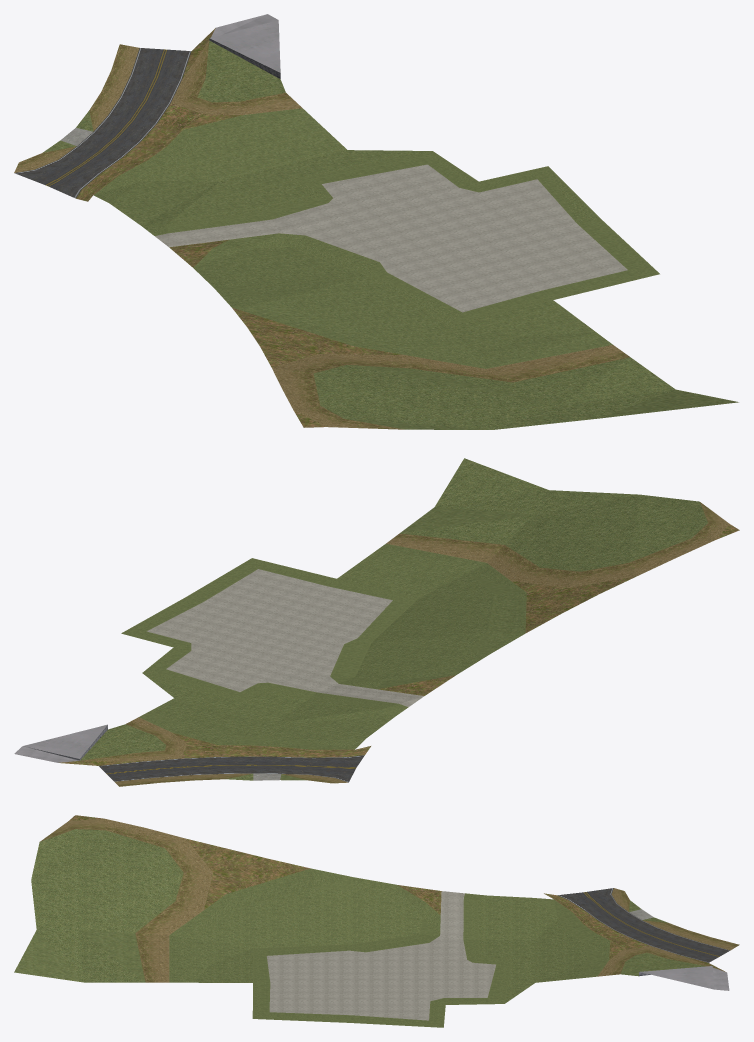
The model's file is s_bit_08.obj.
3 views of the same model, one above another, from view 1: azimuth 30°, elevation 25°; view 2: azimuth 150°, elevation 25°; view 3: azimuth 270°, elevation 25° (orthographic). The views are drawn at different scales.
Visible parts, largest first — view 1: s_bit_08; view 2: s_bit_08; view 3: s_bit_08.
Part boxes in pixels (left/top/right/bottom): s_bit_08: left=14, top=14, right=738, bottom=429; s_bit_08: left=14, top=458, right=739, bottom=786; s_bit_08: left=14, top=815, right=739, bottom=1027.
Size of the model in its own units: 136 by 15 by 242.
Materials: 10 (10 with a texture image).
